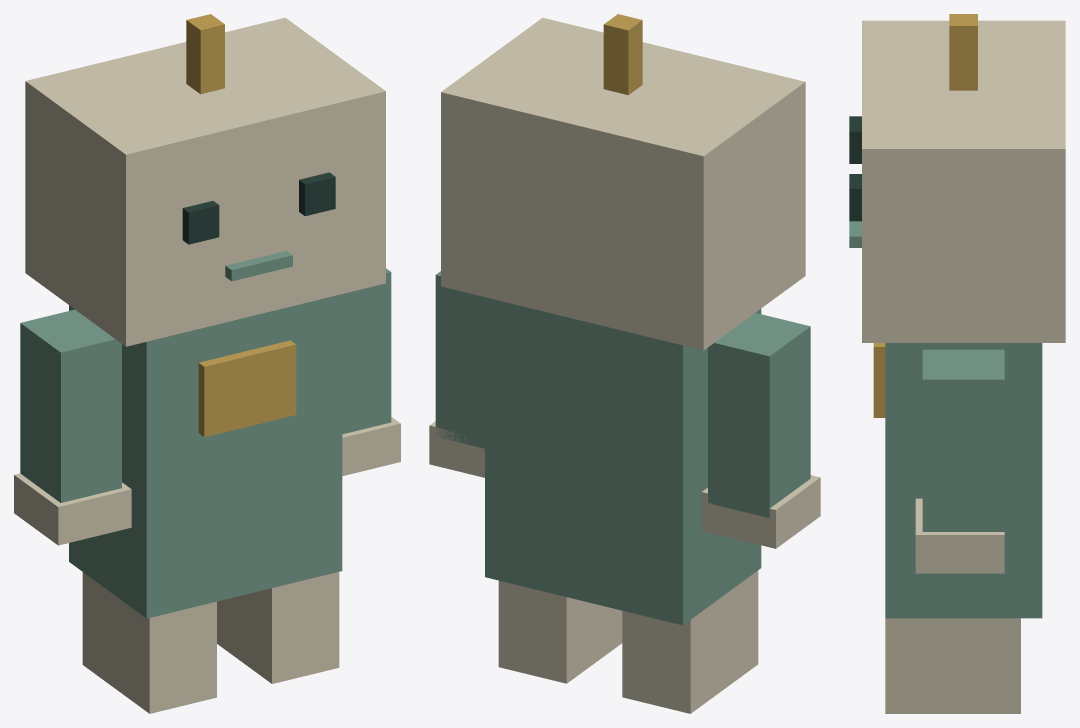
The model's file is placeholder.gltf.
3 views of the same model, side by side, from view 1: azimuth 30°, elevation 25°; view 2: azimuth 150°, elevation 25°; view 3: azimuth 270°, elevation 25° (orthographic).
Parts seen in each view (by area): view 1: anchor_head, paper_robot, anchor_hand_l, anchor_hand_r; view 2: anchor_head, paper_robot, anchor_hand_l, anchor_hand_r; view 3: anchor_head, paper_robot, anchor_hand_r.
Part boxes in pixels (left/top/right/bottom): anchor_head: left=25, top=14, right=385, bottom=346; paper_robot: left=69, top=294, right=342, bottom=713; anchor_hand_l: left=14, top=309, right=131, bottom=545; anchor_hand_r: left=342, top=268, right=400, bottom=475; anchor_head: left=441, top=14, right=805, bottom=350; paper_robot: left=485, top=297, right=761, bottom=713; anchor_hand_l: left=701, top=313, right=820, bottom=548; anchor_hand_r: left=429, top=271, right=484, bottom=477; anchor_head: left=849, top=14, right=1065, bottom=342; paper_robot: left=873, top=343, right=1042, bottom=713; anchor_hand_r: left=915, top=349, right=1004, bottom=573.
Bounding box in the file's own units: 1.12 × 2 × 0.605.
